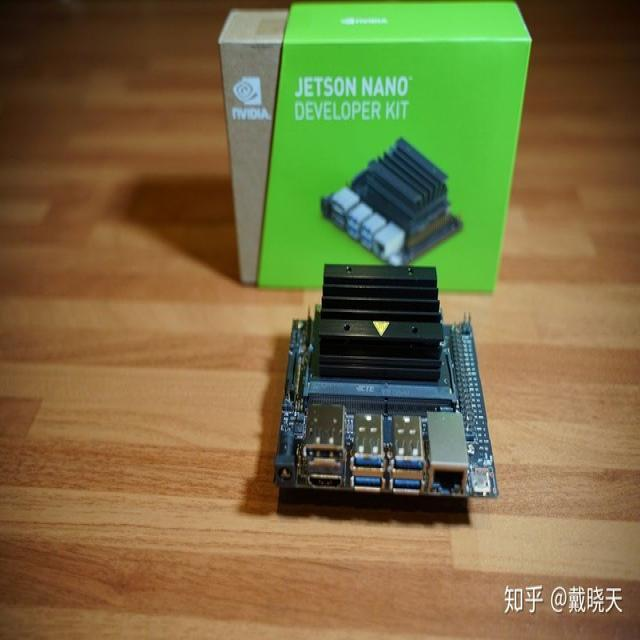Jetson Nano: (273, 264, 498, 498)
